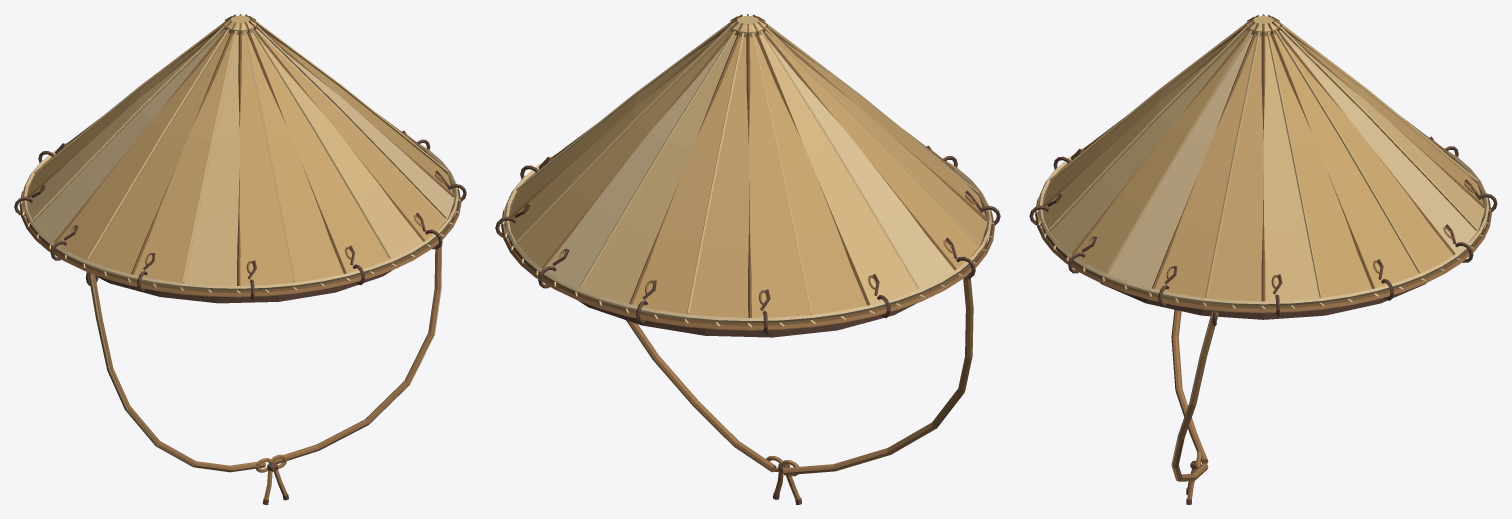
The model's file is 001_samurai_kasa_detailed_v01.glb.
The picture shows the model from 3 angles, left to right: view 1: azimuth 30°, elevation 25°; view 2: azimuth 150°, elevation 25°; view 3: azimuth 270°, elevation 25°; orthographic projection. The views are drawn at different scales.
Parts seen in each view (by area): view 1: Sixteen panel conical kasa, Kasa upper straw rim bead, Kasa lower woven rim bead, Kasa chin cord 1, Kasa chin cord -1, Dark rolled edge, Raised band, Kasa raised straw rib 01, Kasa raised straw rib 00, Kasa raised straw rib 02, Kasa raised straw rib 11, Kasa raised straw rib 09 (+6 smaller); view 2: Sixteen panel conical kasa, Kasa upper straw rim bead, Kasa lower woven rim bead, Kasa chin cord -1, Dark rolled edge, Raised band, Kasa chin cord 1, Kasa raised straw rib 04, Kasa raised straw rib 05, Kasa raised straw rib 03, Kasa raised straw rib 06, Kasa raised straw rib 08 (+8 smaller); view 3: Sixteen panel conical kasa, Kasa upper straw rim bead, Kasa lower woven rim bead, Dark rolled edge, Raised band, Kasa chin cord 1, Kasa chin cord -1, Kasa raised straw rib 01, Kasa raised straw rib 04, Kasa raised straw rib 00, Kasa raised straw rib 05, Kasa raised straw rib 02 (+8 smaller).
Boxes of the visible parts, bbox=[...] form: Sixteen panel conical kasa: bbox=[26, 28, 454, 297]; Kasa upper straw rim bead: bbox=[22, 141, 458, 290]; Kasa lower woven rim bead: bbox=[19, 188, 461, 297]; Kasa chin cord 1: bbox=[274, 243, 441, 463]; Kasa chin cord -1: bbox=[89, 273, 265, 472]; Dark rolled edge: bbox=[22, 153, 458, 292]; Raised band: bbox=[98, 270, 391, 303]; Kasa raised straw rib 01: bbox=[256, 25, 446, 218]; Kasa raised straw rib 00: bbox=[251, 29, 390, 258]; Kasa raised straw rib 02: bbox=[257, 22, 447, 172]; Kasa raised straw rib 11: bbox=[243, 31, 294, 282]; Kasa raised straw rib 09: bbox=[87, 29, 228, 259]; Sixteen panel conical kasa: bbox=[509, 30, 987, 330]; Kasa upper straw rim bead: bbox=[504, 154, 991, 322]; Kasa lower woven rim bead: bbox=[501, 210, 994, 330]; Kasa chin cord -1: bbox=[783, 278, 973, 475]; Dark rolled edge: bbox=[504, 169, 991, 325]; Raised band: bbox=[579, 301, 915, 337]; Kasa chin cord 1: bbox=[626, 320, 776, 472]; Kasa raised straw rib 04: bbox=[517, 27, 730, 242]; Kasa raised straw rib 05: bbox=[579, 30, 735, 287]; Kasa raised straw rib 03: bbox=[516, 22, 729, 191]; Kasa raised straw rib 06: bbox=[687, 33, 744, 313]; Kasa raised straw rib 08: bbox=[760, 31, 918, 288]; Sixteen panel conical kasa: bbox=[1042, 30, 1484, 313]; Kasa upper straw rim bead: bbox=[1038, 146, 1488, 305]; Kasa lower woven rim bead: bbox=[1035, 198, 1491, 313]; Dark rolled edge: bbox=[1038, 160, 1488, 308]; Raised band: bbox=[1100, 283, 1426, 319]; Kasa chin cord 1: bbox=[1171, 312, 1218, 481]; Kasa chin cord -1: bbox=[1171, 309, 1208, 463]; Kasa raised straw rib 01: bbox=[1106, 30, 1252, 272]; Kasa raised straw rib 04: bbox=[1274, 30, 1420, 272]; Kasa raised straw rib 00: bbox=[1049, 26, 1247, 230]; Kasa raised straw rib 05: bbox=[1279, 26, 1477, 230]; Kasa raised straw rib 02: bbox=[1205, 32, 1259, 297].
Bounding box in the file's own units: 2.47 × 2.74 × 2.42.
